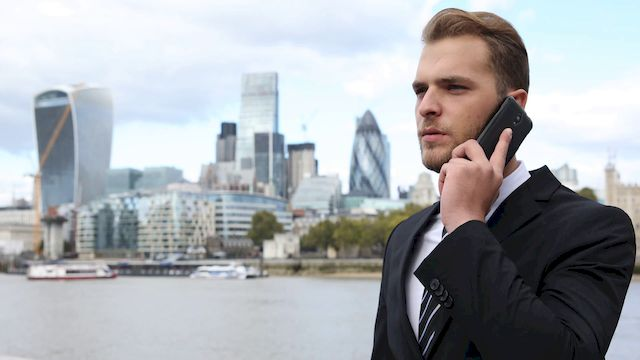phone: (478, 98, 531, 176)
talk: (409, 73, 537, 225)
